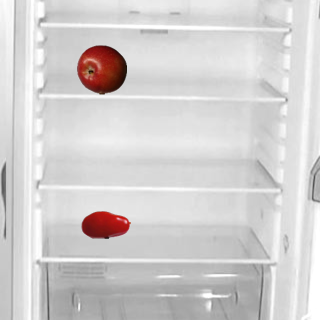Apple Braeburn: (76, 44, 126, 94)
Tomato 2: (80, 199, 130, 249)
